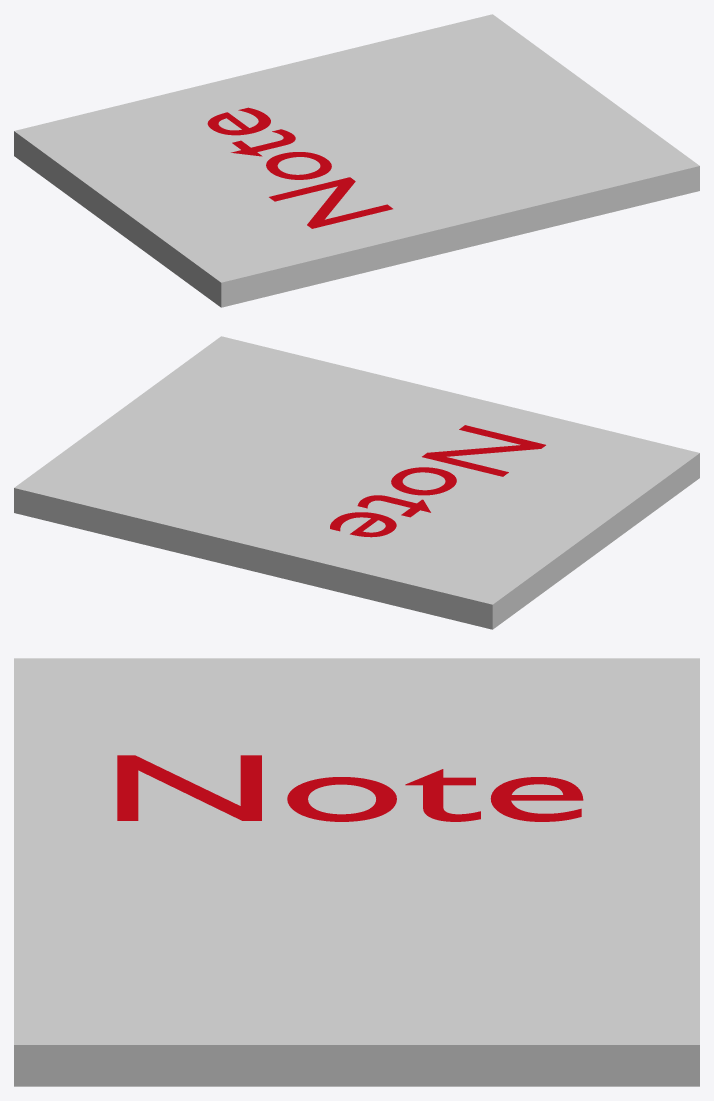
The model's file is SampleNote.fbx.
3 renders of one model, top to bottom at view 1: azimuth 30°, elevation 25°; view 2: azimuth 150°, elevation 25°; view 3: azimuth 270°, elevation 25°, orthographic. The views are drawn at different scales.
Visible parts, largest first — view 1: Cube; view 2: Cube; view 3: Cube.
Part boxes in pixels (<box>): Cube: <box>14,14,699,307</box>; Cube: <box>14,336,699,629</box>; Cube: <box>14,658,699,1086</box>.
Bounding box in the file's own units: 400 × 20.88 × 300.
